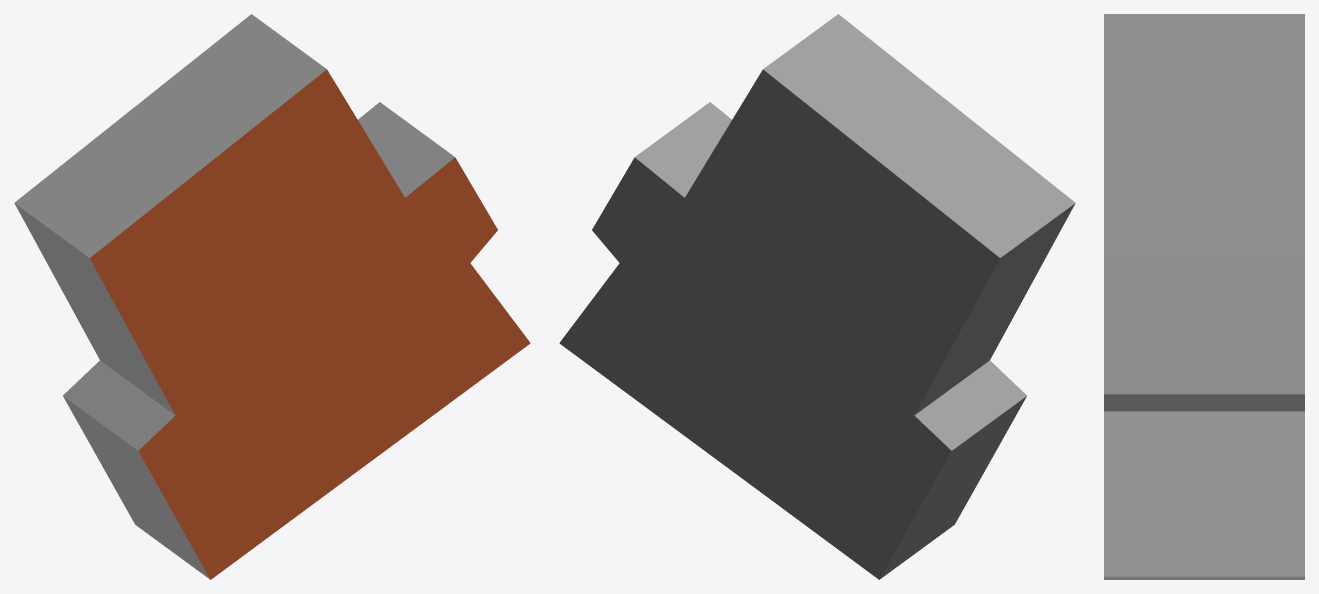
Rendered from construction_5026_assumed_A_Casa_h6m.obj.
3 renders of one model, left to right at view 1: azimuth 30°, elevation 25°; view 2: azimuth 150°, elevation 25°; view 3: azimuth 270°, elevation 25°, orthographic. The views are drawn at different scales.
Visible parts, largest first — view 1: construction_5026_assumed_A_Casa; view 2: construction_5026_assumed_A_Casa; view 3: construction_5026_assumed_A_Casa.
Part boxes in pixels (x1,y1,x2,y2): construction_5026_assumed_A_Casa: [14, 14, 530, 579]; construction_5026_assumed_A_Casa: [559, 14, 1075, 579]; construction_5026_assumed_A_Casa: [1104, 14, 1304, 579].
Bounding box in the file's own units: 20.23 × 21.14 × 6.
